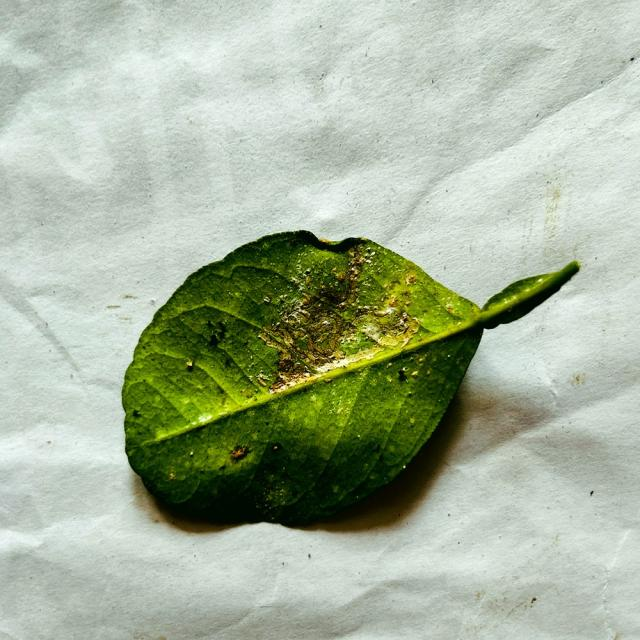Bacterial_Blight: (275, 297, 354, 364), (266, 315, 334, 383), (310, 251, 362, 311), (353, 306, 416, 351), (260, 323, 311, 368), (206, 320, 227, 346)
Lemon: (122, 232, 577, 531)
